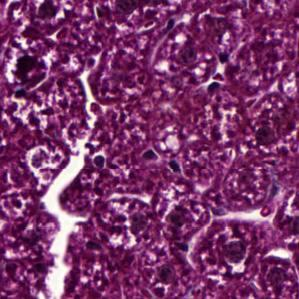inflammation: (4, 52, 54, 95), (213, 235, 256, 275), (31, 0, 72, 29)
